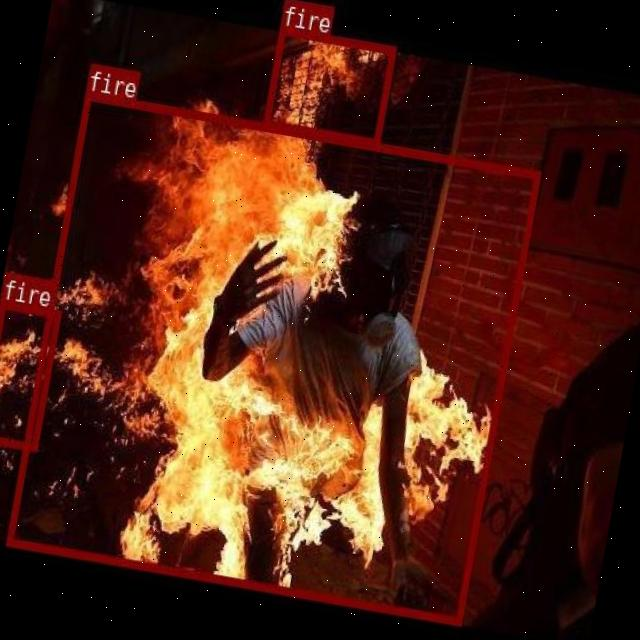fire: (4, 90, 540, 622), (261, 23, 395, 146), (0, 300, 61, 451)
